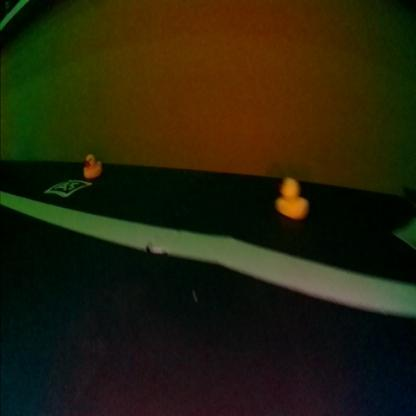Duckie: (276, 178, 310, 218), (85, 154, 103, 178)
QR code: (46, 180, 90, 196)
